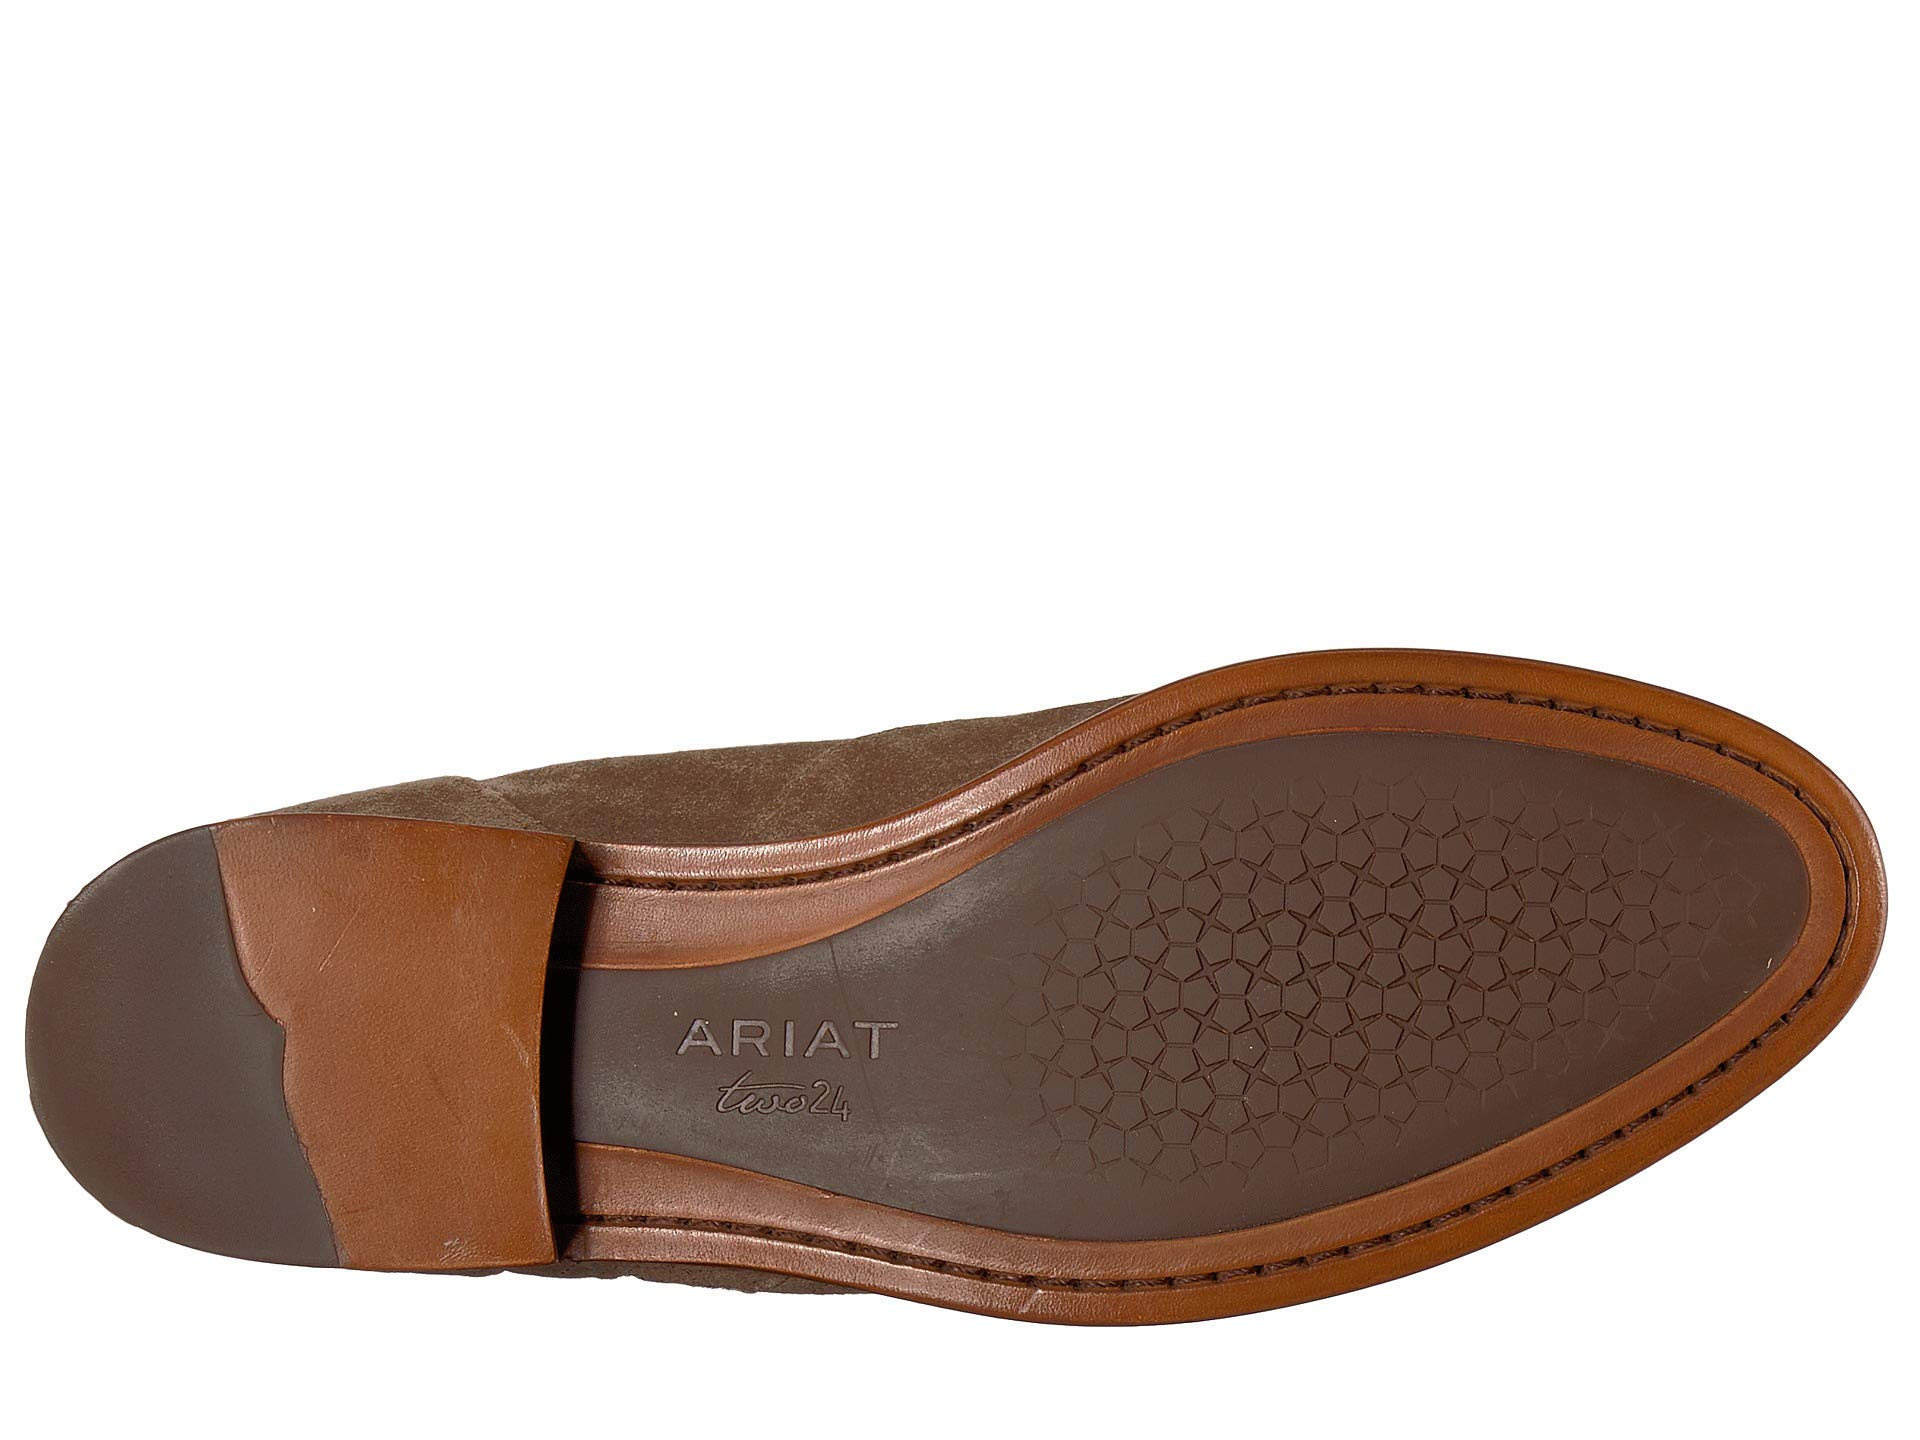line: (160, 870, 429, 1218)
polygon: (1096, 826, 1562, 1103)
